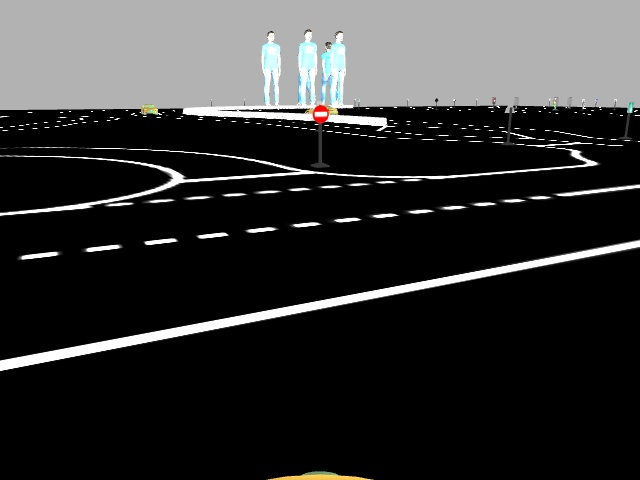NoEntry: (309, 105, 329, 123)
